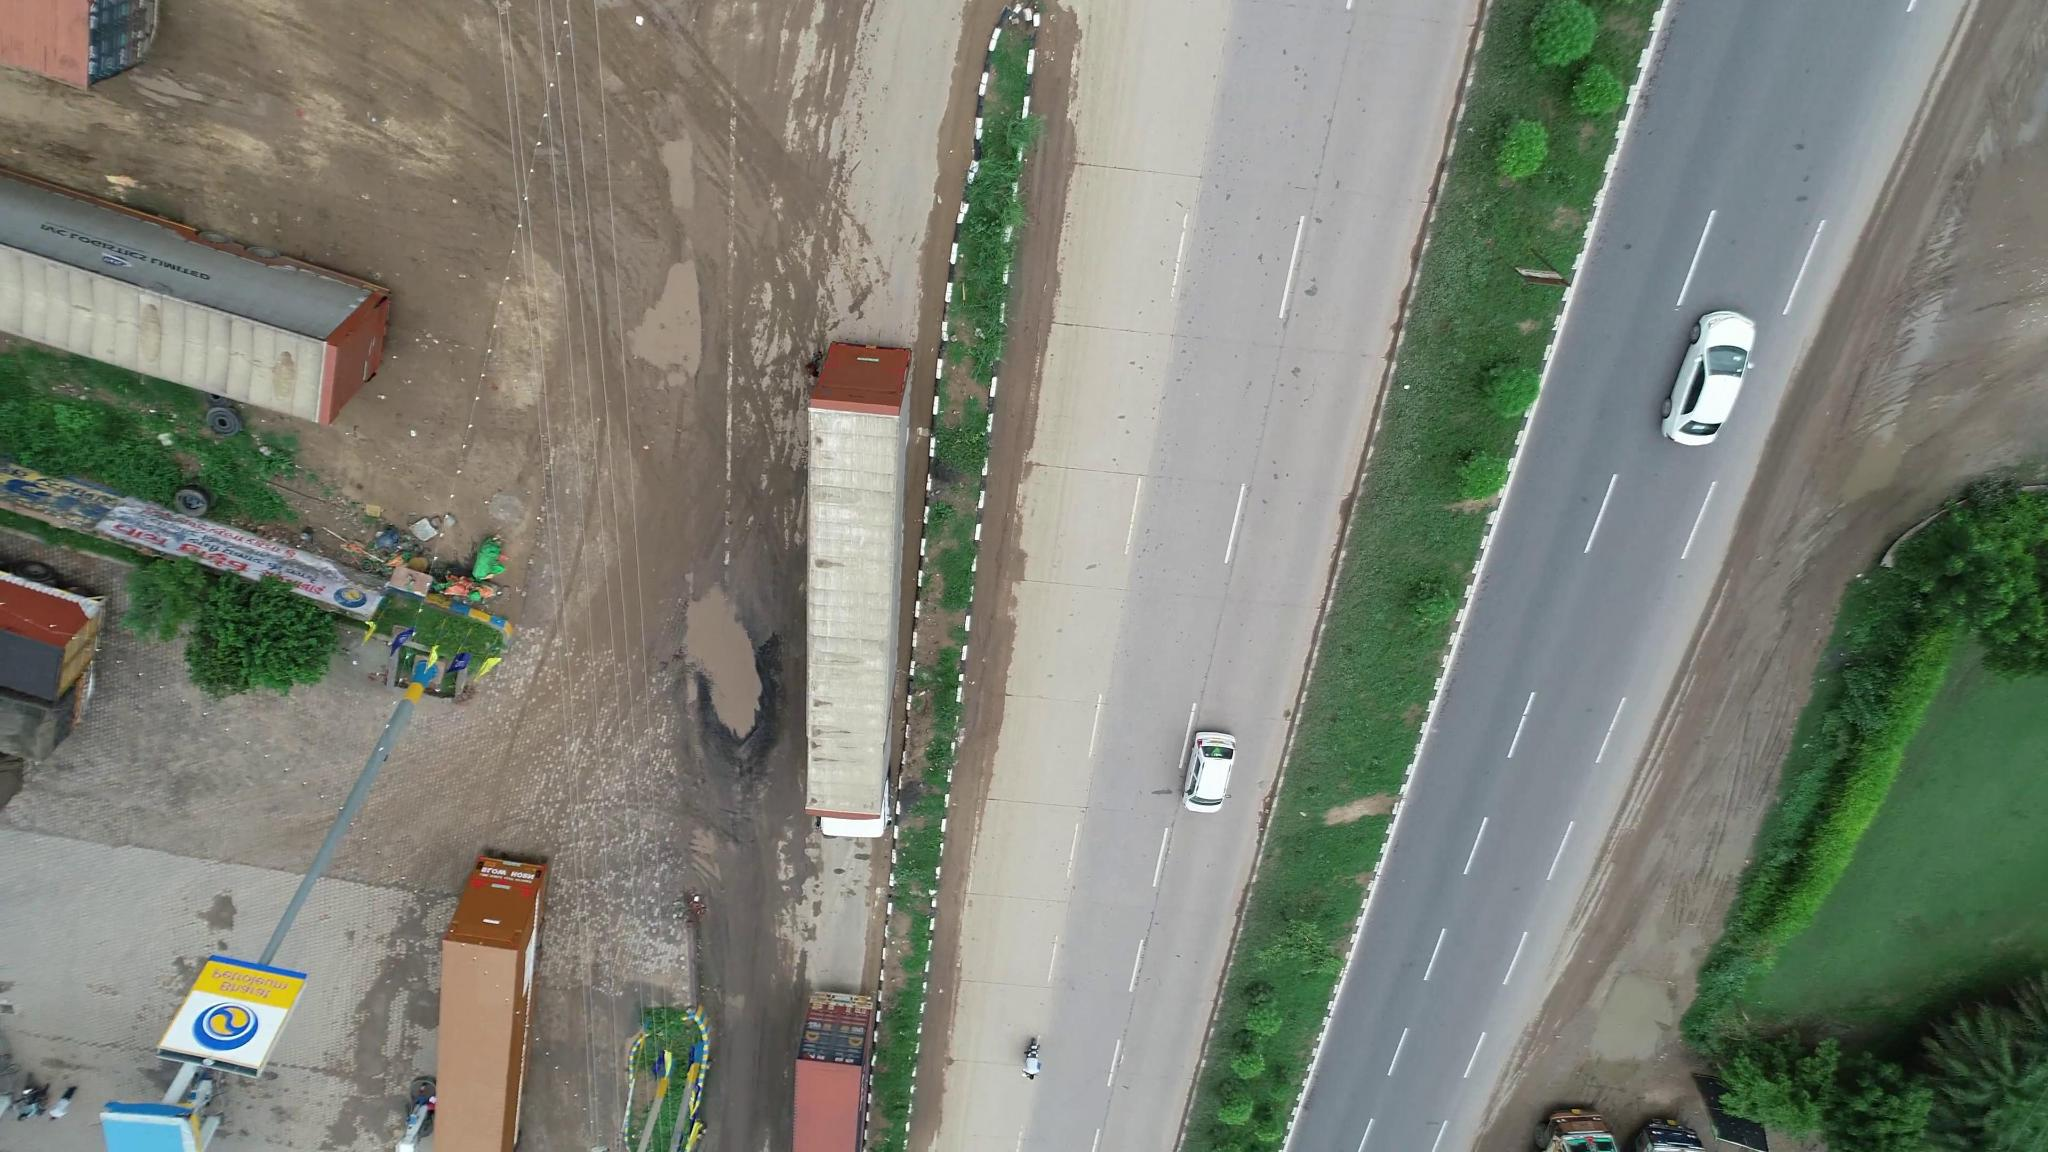Muddy_road: (1606, 598, 1800, 947)
